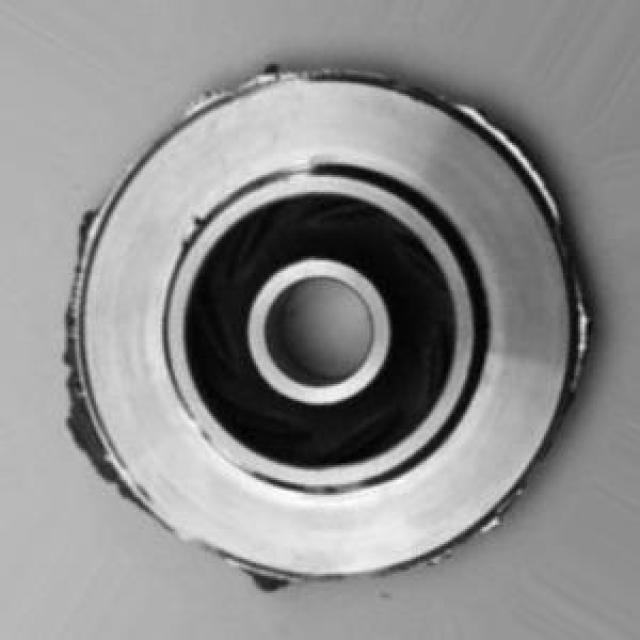Defect: (59, 371, 106, 449)
